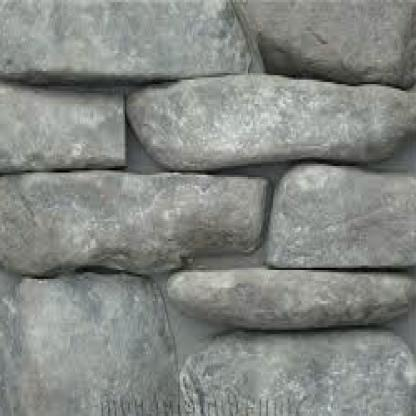Metamorphic_Quartize: (2, 160, 273, 286), (125, 79, 415, 173), (2, 257, 173, 414), (253, 139, 415, 286), (171, 325, 416, 414), (158, 265, 415, 319), (2, 66, 126, 172)
